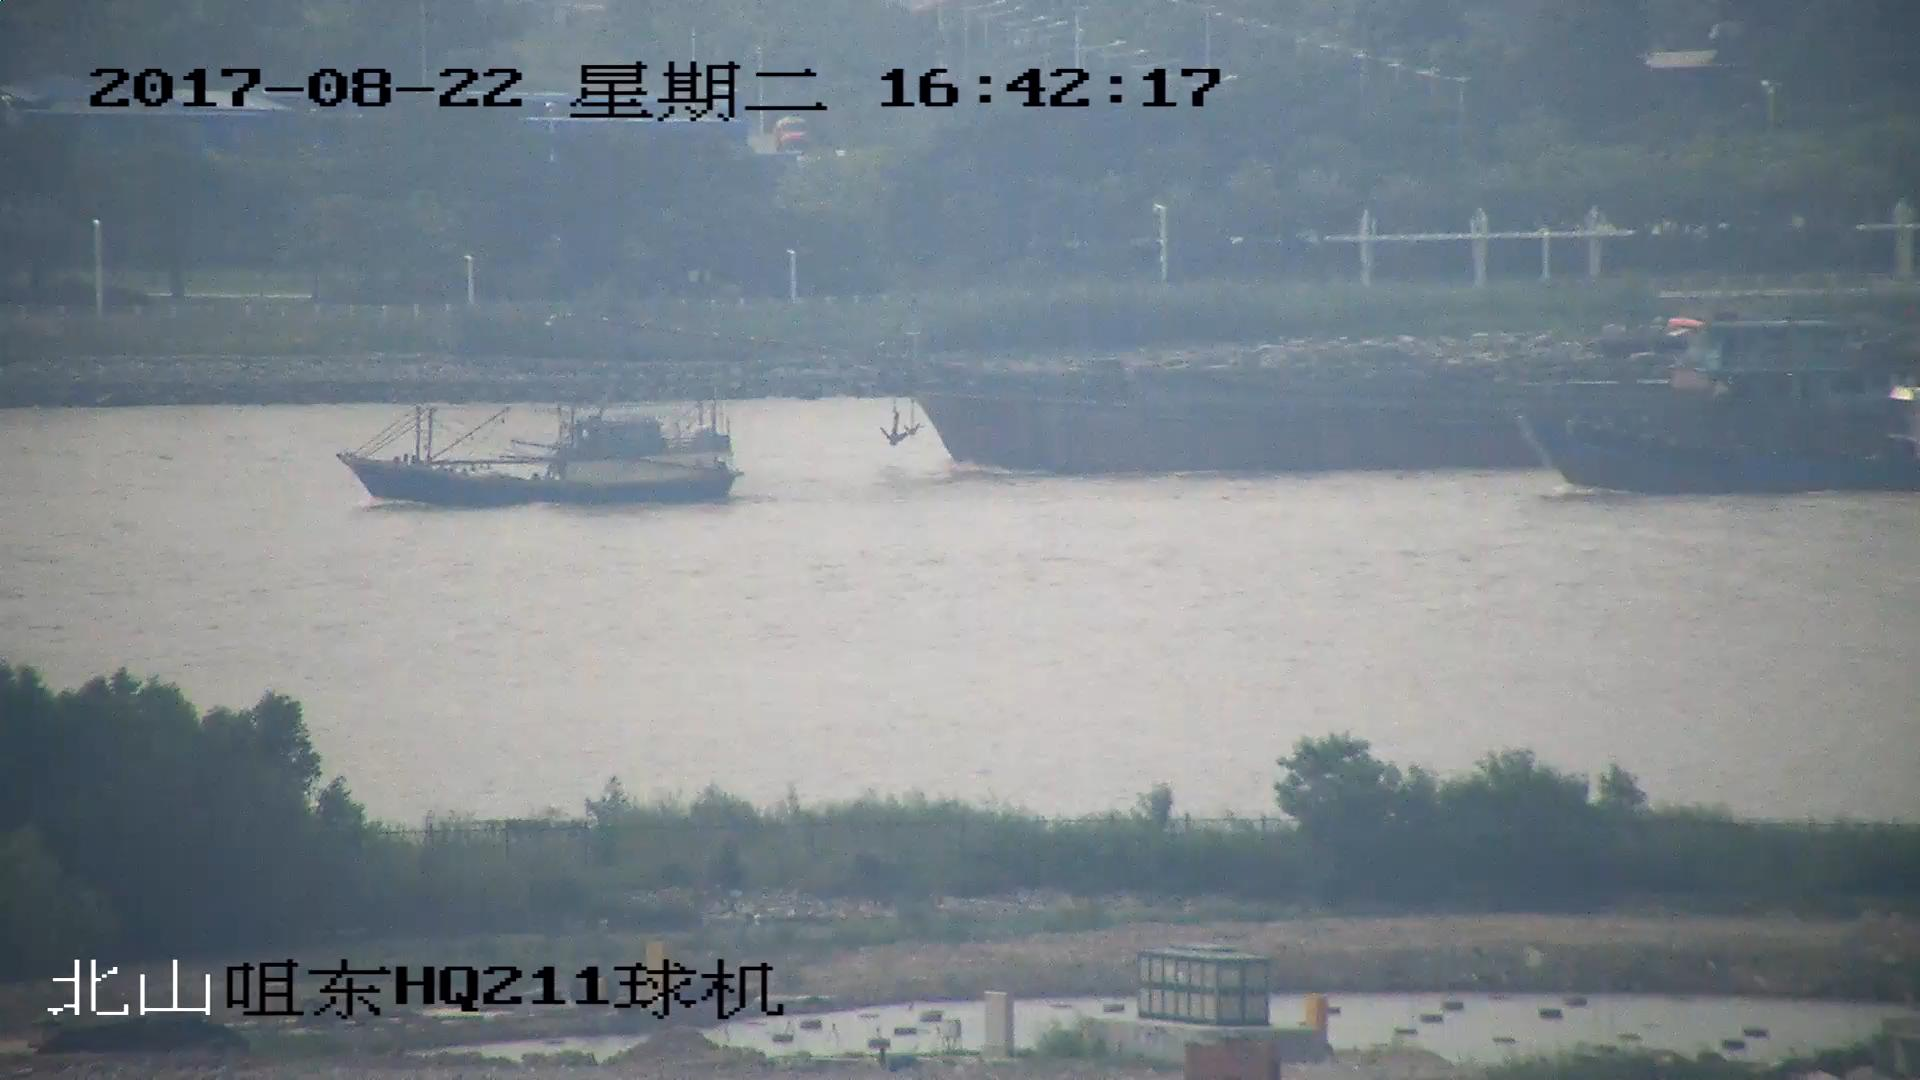bulk cargo carrier: (557, 305, 1895, 473)
fishing boat: (340, 393, 735, 507), (1521, 393, 1920, 497)
